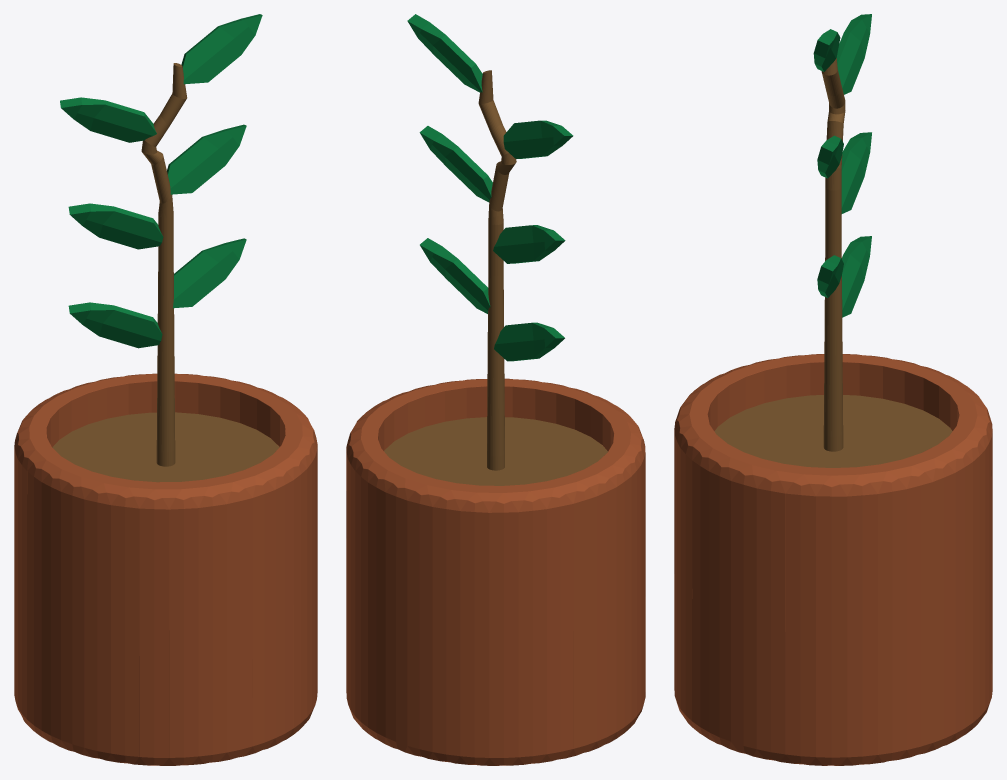
The model's file is lowpoly_plant_pot.glb.
3 renders of one model, left to right at view 1: azimuth 30°, elevation 25°; view 2: azimuth 150°, elevation 25°; view 3: azimuth 270°, elevation 25°, orthographic. The views are drawn at different scales.
Parts seen in each view (by area): view 1: Plant; view 2: Plant; view 3: Plant.
Boxes of the visible parts, x1,y1,x2,y2 form: Plant: [14, 14, 317, 765]; Plant: [346, 14, 645, 765]; Plant: [674, 14, 992, 765].
Size of the model in its own units: 0.165 by 0.4064 by 0.165.
1 material, 1 textured.
